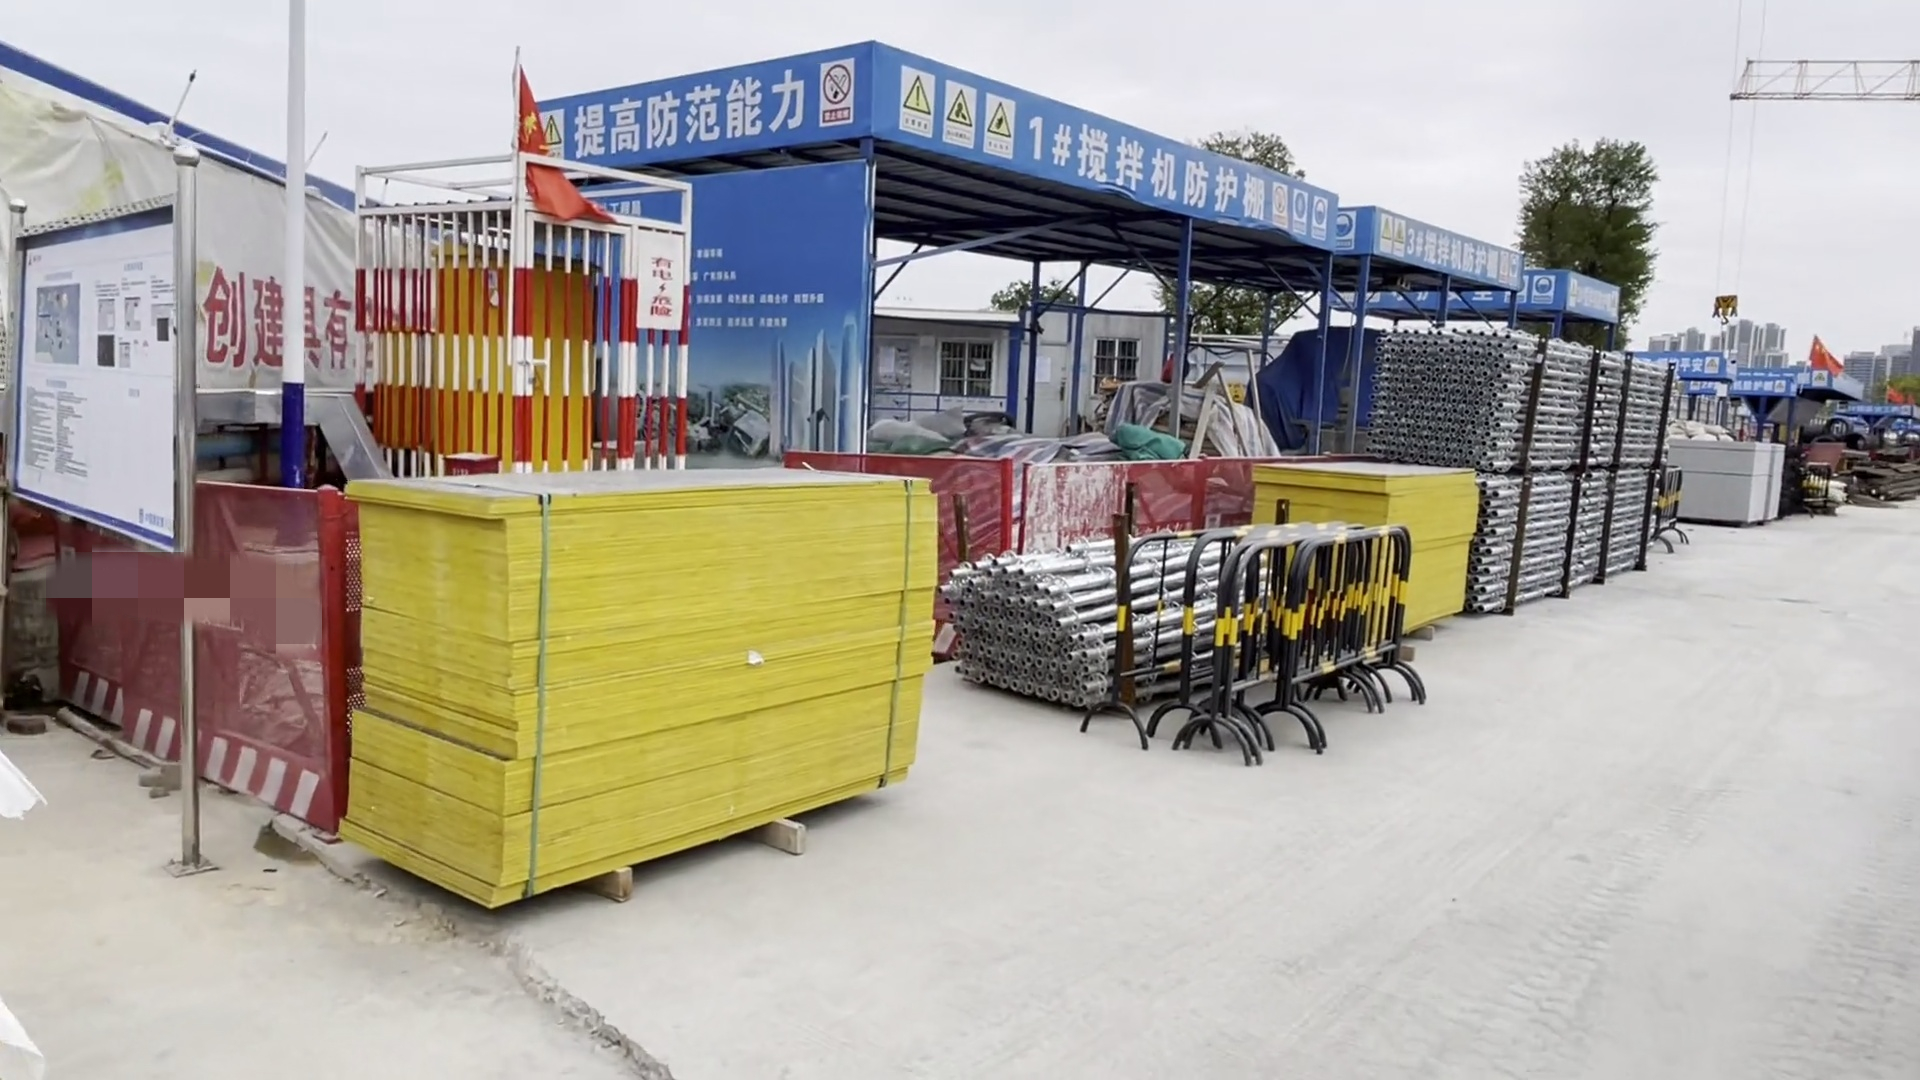board: (338, 473, 911, 849), (1237, 462, 1458, 622)
brick: (1662, 436, 1785, 527)
ebox: (415, 261, 597, 471)
fence: (1098, 526, 1415, 713), (926, 452, 1241, 531)
hook: (1710, 295, 1739, 324)
scaffold: (1364, 327, 1684, 608), (943, 524, 1280, 683)
slogan: (543, 62, 869, 161), (860, 57, 1022, 171), (1258, 178, 1415, 256)
